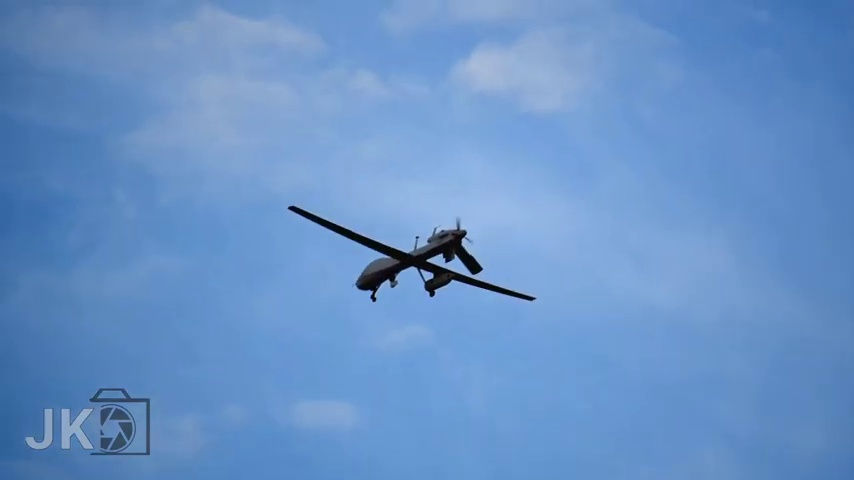military drone: (287, 205, 536, 301)
